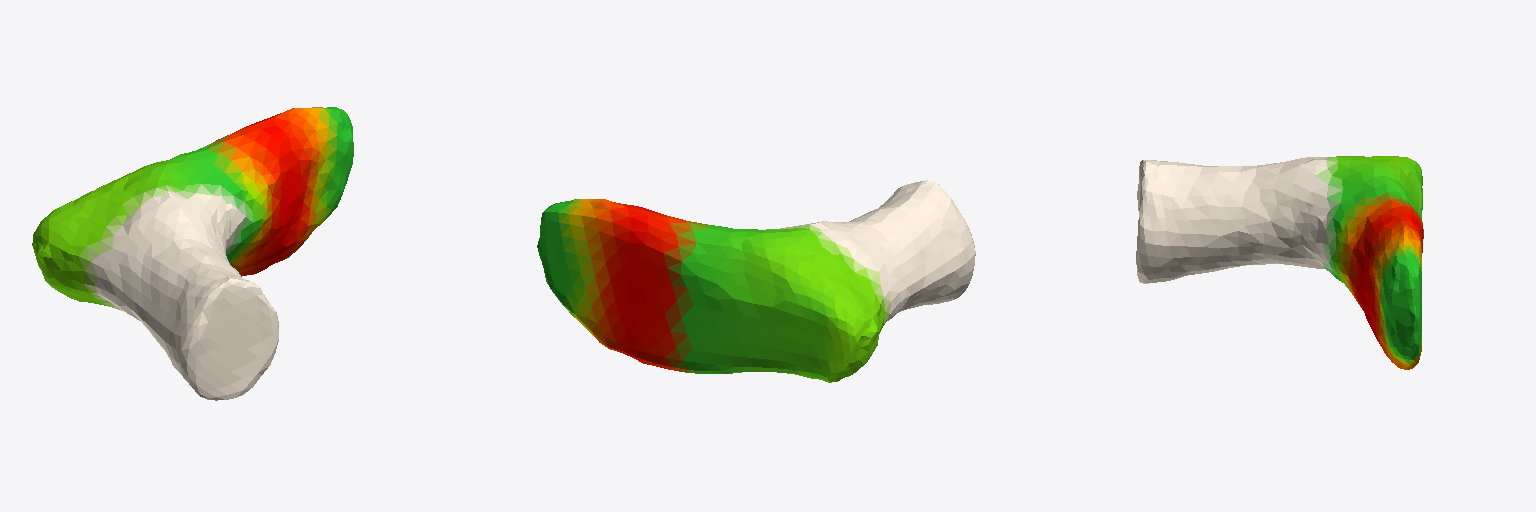
The model's file is right.obj.
3 views of the same model, side by side, from view 1: azimuth 30°, elevation 25°; view 2: azimuth 150°, elevation 25°; view 3: azimuth 270°, elevation 25° (orthographic).
Size of the model in its own units: 242 by 110 by 185.